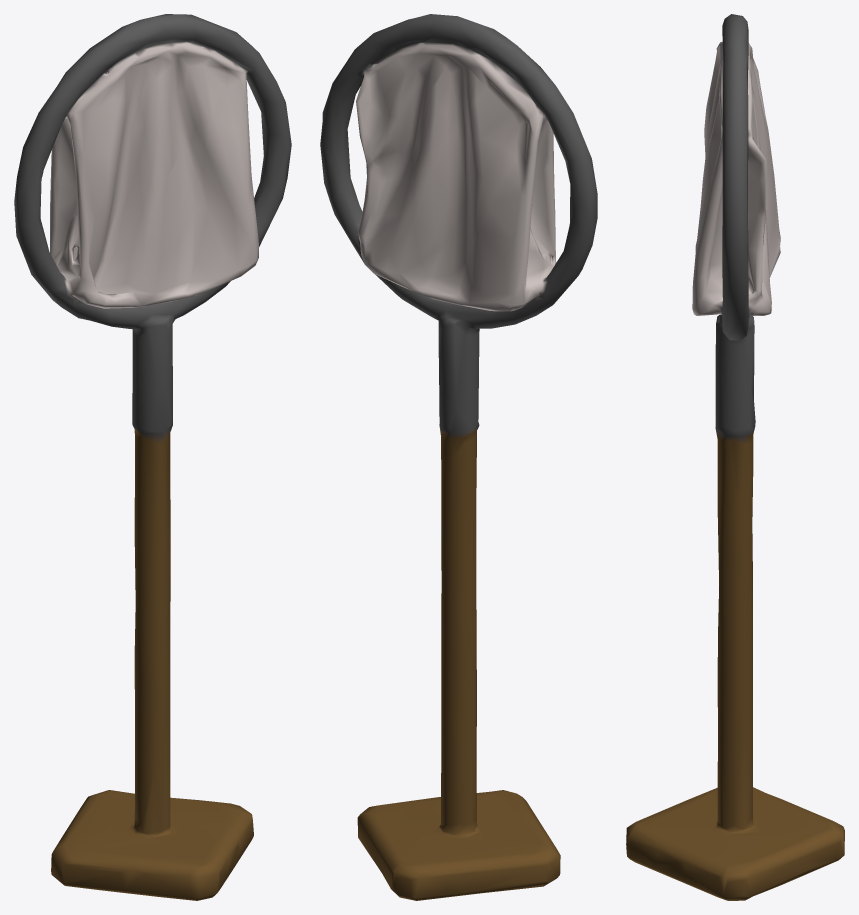
File: gen3d-net-lod0.glb
3 views of the same model, side by side, from view 1: azimuth 30°, elevation 25°; view 2: azimuth 150°, elevation 25°; view 3: azimuth 270°, elevation 25° (orthographic).
Visible parts, largest first — view 1: part_0; view 2: part_0; view 3: part_0.
Boxes of the visible parts, box(x1,y1,x2,y2) form: part_0: box(14, 14, 291, 900); part_0: box(320, 14, 597, 900); part_0: box(626, 14, 844, 900).
Bounding box in the file's own units: 0.3392 × 0.9999 × 0.2383.
